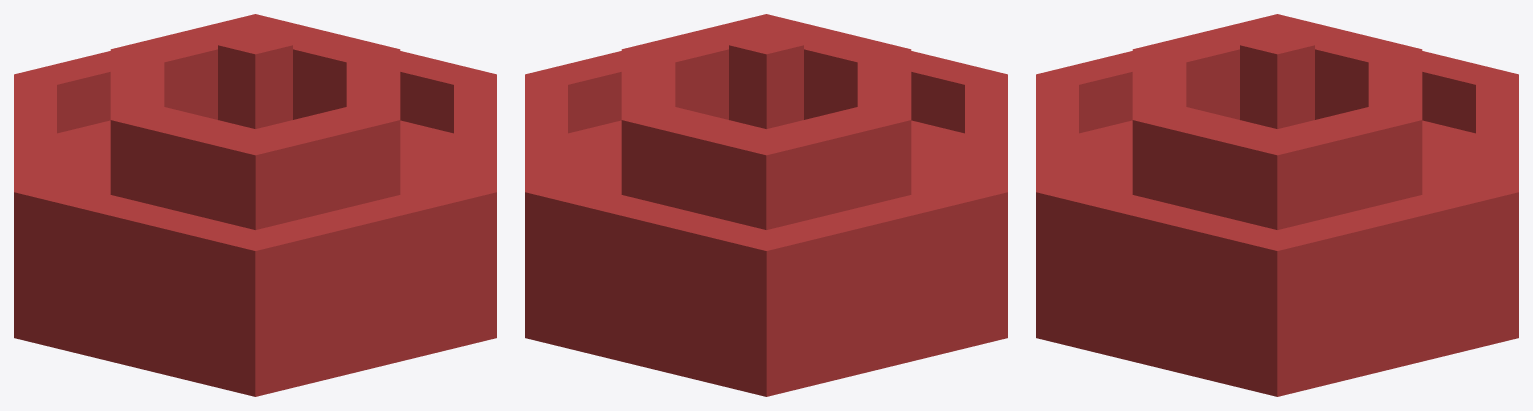
Rendered from Piece_3.fbx.
The picture shows the model from 3 angles, left to right: view 1: azimuth 30°, elevation 25°; view 2: azimuth 150°, elevation 25°; view 3: azimuth 270°, elevation 25°; orthographic projection.
Visible parts, largest first — view 1: 개체_1; view 2: 개체_1; view 3: 개체_1.
Boxes of the visible parts, left/top/right/bottom form: 개체_1: left=14, top=14, right=496, bottom=396; 개체_1: left=525, top=14, right=1007, bottom=396; 개체_1: left=1036, top=14, right=1518, bottom=396.
Bounding box in the file's own units: 5.2 × 4.5 × 2.5.
